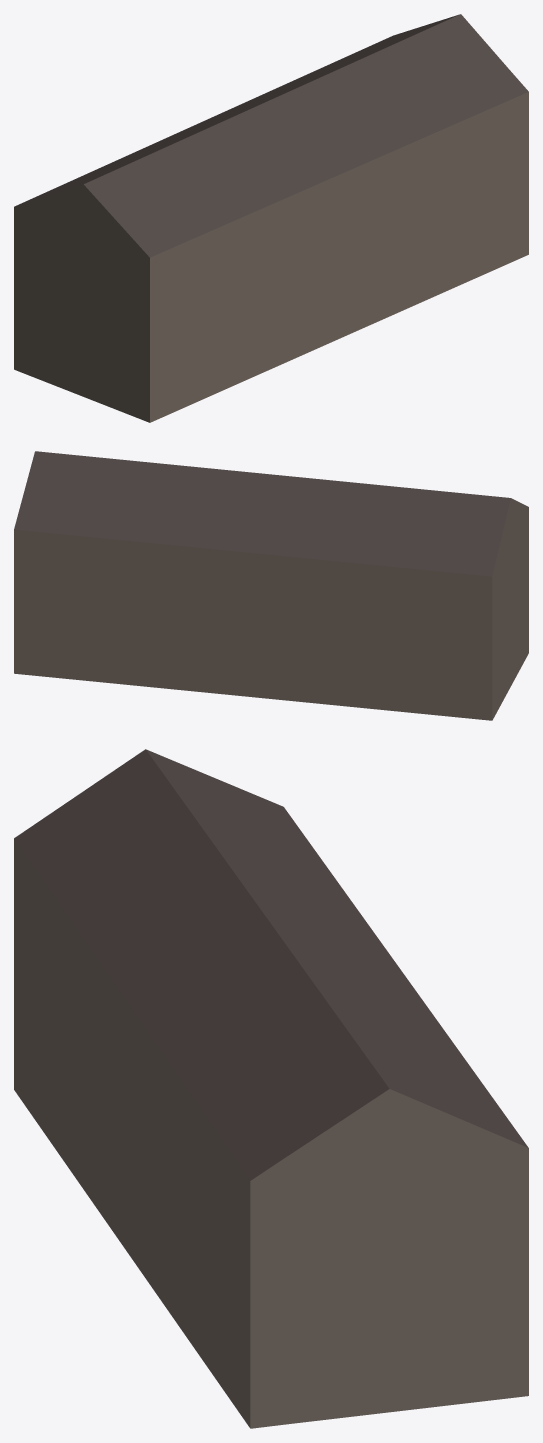
3 views of the same model, one above another, from view 1: azimuth 30°, elevation 25°; view 2: azimuth 150°, elevation 25°; view 3: azimuth 270°, elevation 25° (orthographic). The views are drawn at different scales.
Visible parts, largest first — view 1: HP-w1200835399; view 2: HP-w1200835399; view 3: HP-w1200835399.
Boxes of the visible parts, left/top/right/bottom form: HP-w1200835399: left=14, top=14, right=528, bottom=422; HP-w1200835399: left=14, top=451, right=528, bottom=720; HP-w1200835399: left=14, top=749, right=528, bottom=1428.
Bounding box in the file's own units: 29.15 × 11.75 × 16.95.
